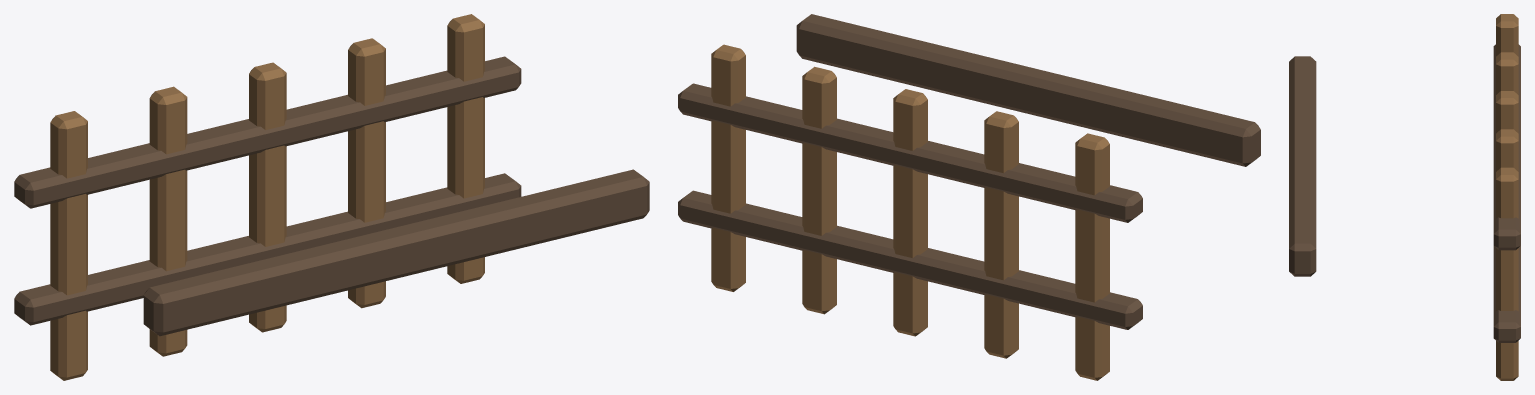
The model's file is architecture-village-fence.lod0.glb.
3 views of the same model, side by side, from view 1: azimuth 30°, elevation 25°; view 2: azimuth 150°, elevation 25°; view 3: azimuth 270°, elevation 25° (orthographic). The views are drawn at different scales.
Visible parts, largest first — view 1: architecture-village-fence__body; view 2: architecture-village-fence__body; view 3: architecture-village-fence__body.
Boxes of the visible parts, box(x1,y1,x2,y2) form: architecture-village-fence__body: box(14, 14, 649, 380); architecture-village-fence__body: box(678, 14, 1260, 380); architecture-village-fence__body: box(1289, 14, 1520, 380).
Bounding box in the file's own units: 2 × 1 × 1.02.
